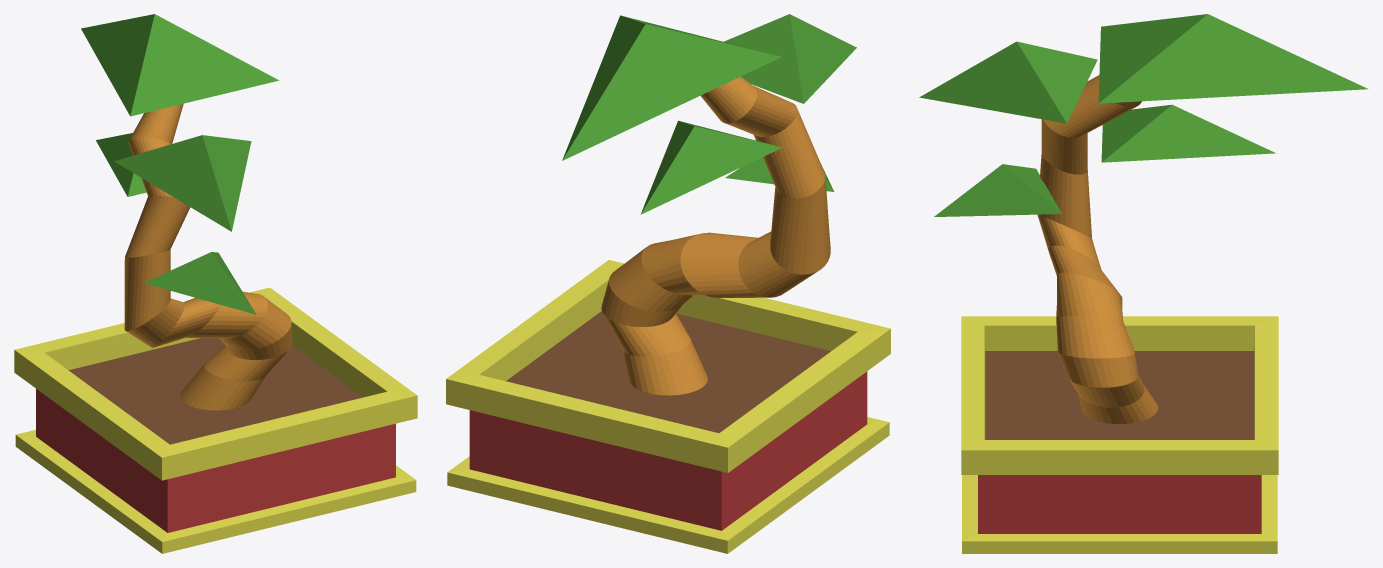
The model's file is bonzai.fbx.
The picture shows the model from 3 angles, left to right: view 1: azimuth 30°, elevation 25°; view 2: azimuth 150°, elevation 25°; view 3: azimuth 270°, elevation 25°; orthographic projection. The views are drawn at different scales.
Visible parts, largest first — view 1: Plane; view 2: Plane; view 3: Plane.
Part boxes in pixels (box(x1,y1,x2,y2)): Plane: box(14, 14, 417, 553); Plane: box(446, 14, 890, 553); Plane: box(919, 14, 1368, 553).
Size of the model in its own units: 202 by 325 by 287.
